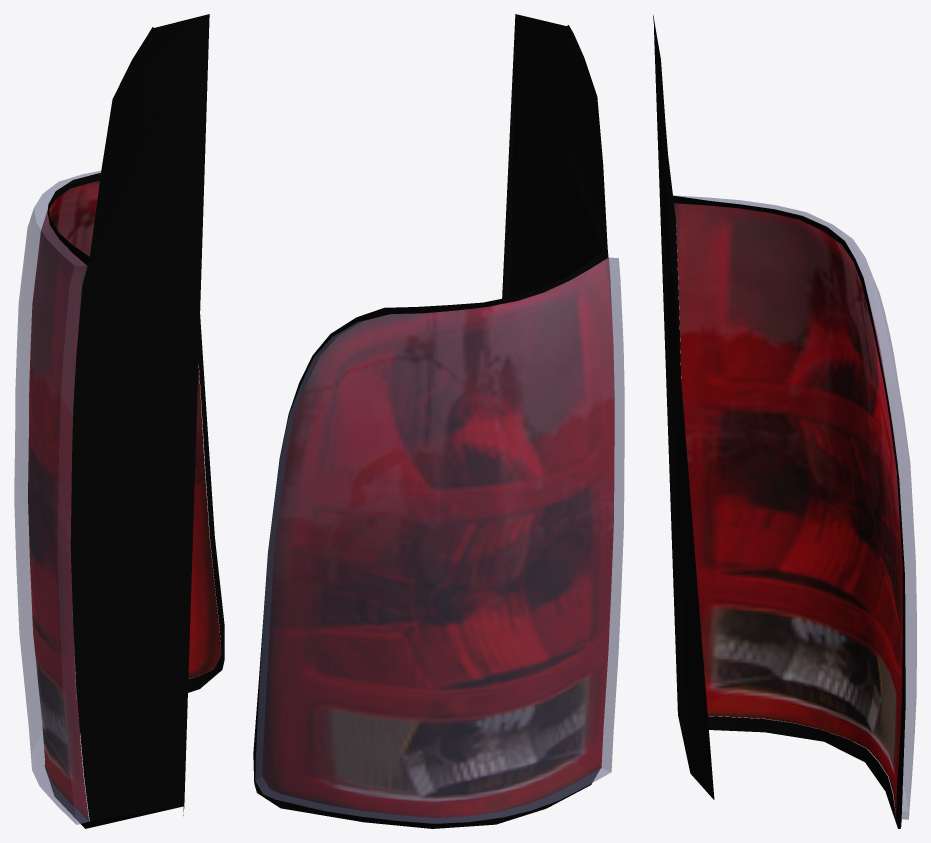
The picture shows the model from 3 angles, left to right: view 1: azimuth 30°, elevation 25°; view 2: azimuth 150°, elevation 25°; view 3: azimuth 270°, elevation 25°; orthographic projection. The views are drawn at different scales.
Parts seen in each view (by area): view 1: N826_541C_L_N826_541C_L_3_D, N826_541C_L_N826_541C_L_2_DTaSI, N826_541C_L_1_N_N826_541C_L; view 2: N826_541C_L_N826_541C_L_2_DTaSI, N826_541C_L_1_N_N826_541C_L, N826_541C_L_N826_541C_L_3_D; view 3: N826_541C_L_1_N_N826_541C_L, N826_541C_L_N826_541C_L_3_D, N826_541C_L_N826_541C_L_2_DTaSI.
Boxes of the visible parts, x1=… form: N826_541C_L_N826_541C_L_3_D: x1=45, y1=14, x2=224, y2=828; N826_541C_L_N826_541C_L_2_DTaSI: x1=14, y1=170, x2=209, y2=824; N826_541C_L_1_N_N826_541C_L: x1=28, y1=181, x2=221, y2=820; N826_541C_L_N826_541C_L_2_DTaSI: x1=255, y1=257, x2=624, y2=823; N826_541C_L_1_N_N826_541C_L: x1=262, y1=257, x2=614, y2=817; N826_541C_L_N826_541C_L_3_D: x1=253, y1=14, x2=608, y2=828; N826_541C_L_1_N_N826_541C_L: x1=674, y1=203, x2=902, y2=814; N826_541C_L_N826_541C_L_3_D: x1=653, y1=15, x2=905, y2=828; N826_541C_L_N826_541C_L_2_DTaSI: x1=674, y1=195, x2=916, y2=819.
Size of the model in its own units: 16.36 by 45.31 by 14.3.
